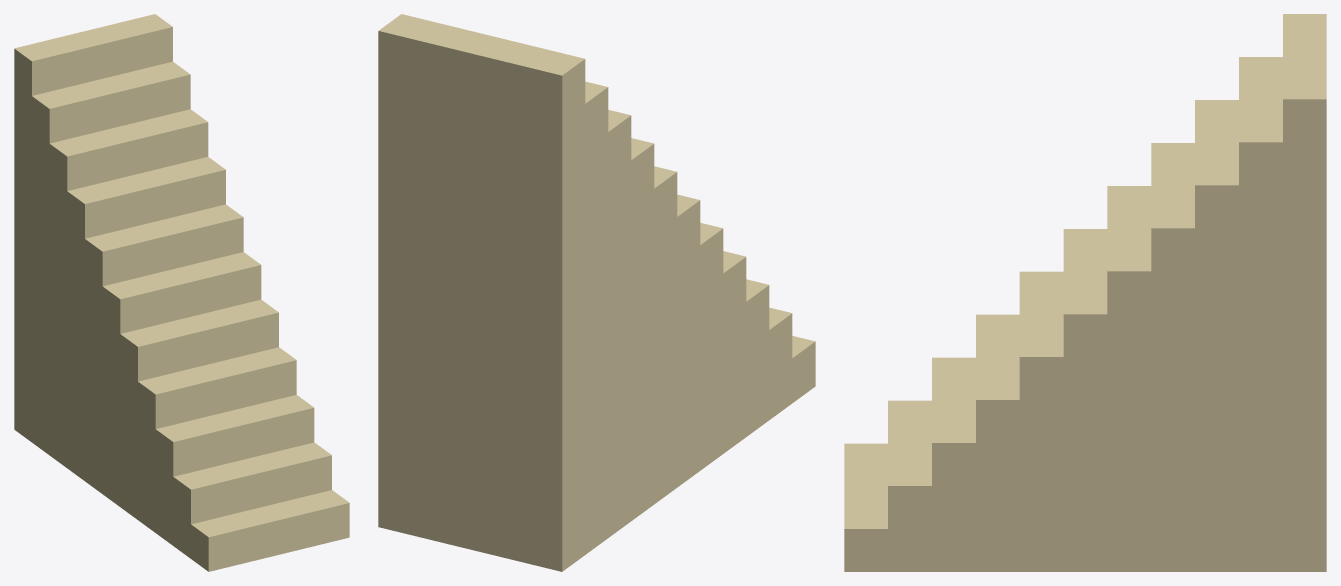
File: Itr_Stair_01.FBX
The picture shows the model from 3 angles, left to right: view 1: azimuth 30°, elevation 25°; view 2: azimuth 150°, elevation 25°; view 3: azimuth 270°, elevation 25°; orthographic projection. The views are drawn at different scales.
Parts seen in each view (by area): view 1: Itr_Stair_01; view 2: Itr_Stair_01; view 3: Itr_Stair_01.
Part boxes in pixels (box(x1,y1,x2,y2)): Itr_Stair_01: box(14, 14, 349, 571); Itr_Stair_01: box(378, 14, 815, 571); Itr_Stair_01: box(844, 14, 1326, 571).
Size of the model in its own units: 41.94 by 108 by 100.
